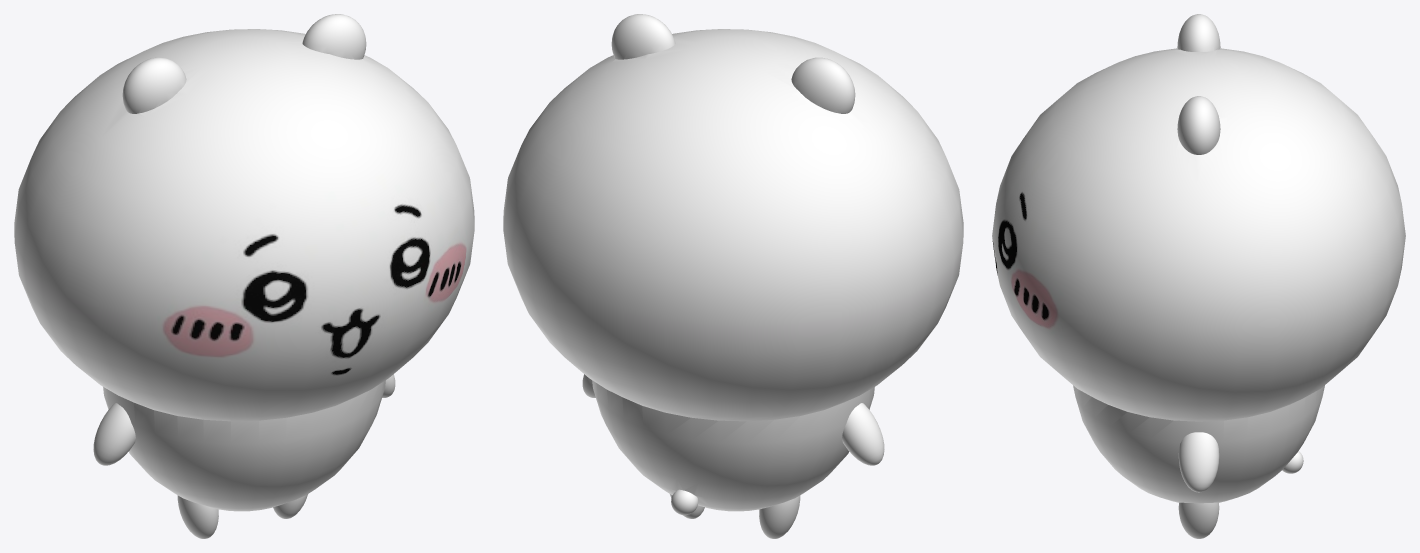
The model's file is chiikawa.glb.
3 views of the same model, side by side, from view 1: azimuth 30°, elevation 25°; view 2: azimuth 150°, elevation 25°; view 3: azimuth 270°, elevation 25° (orthographic). The views are drawn at different scales.
Parts seen in each view (by area): view 1: body, leftHand, leftFoot; view 2: body, leftHand, leftFoot; view 3: body, rightHand, leftFoot.001.
Boxes of the visible parts, <box> form: body: <box>14,14,474,511</box>; leftHand: <box>93,403,135,465</box>; leftFoot: <box>177,495,218,538</box>; body: <box>503,14,963,515</box>; leftHand: <box>842,403,884,465</box>; leftFoot: <box>759,495,800,538</box>; body: <box>992,14,1405,503</box>; rightHand: <box>1178,432,1219,492</box>; leftFoot.001: <box>1178,502,1219,538</box>.
Size of the model in its own units: 1.9 by 2.19 by 1.78.
Materials: 5 (1 with a texture image).
